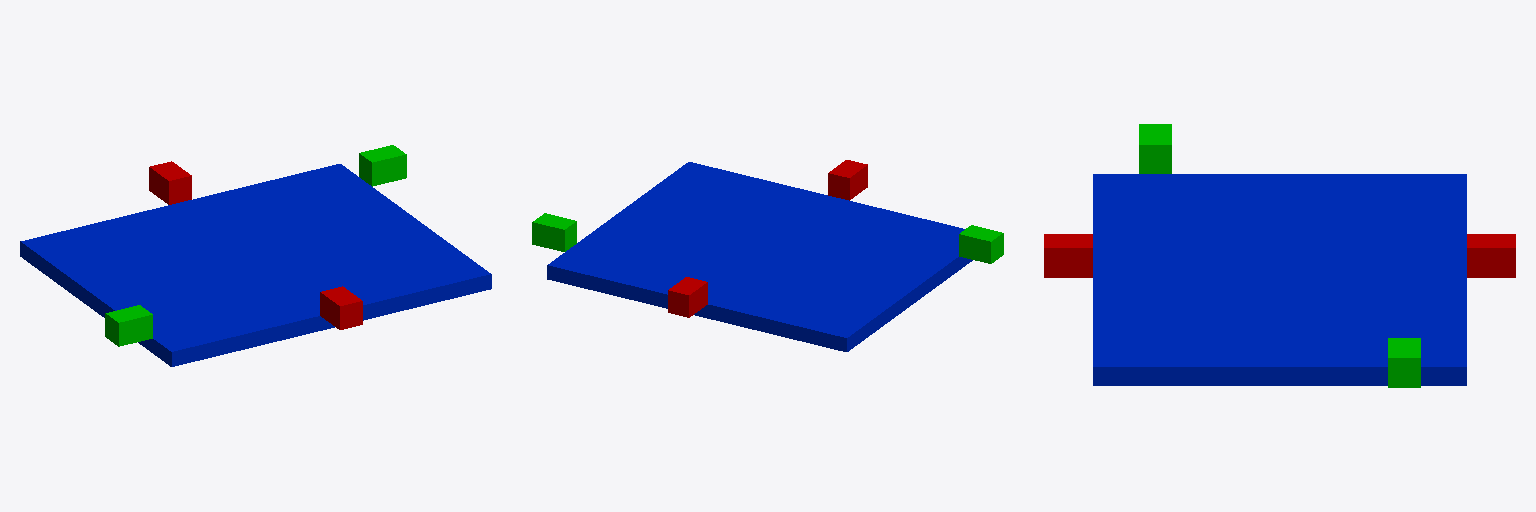
The robot description file, URDF, robot "MARS-2026-robot":
<?xml version="1.0"?>
<robot name="MARS-2026-robot">

  <material name="blue">
    <color rgba="0.0 0.2 0.8 1.0"/>
  </material>
  <material name="black">
    <color rgba="0.1 0.1 0.1 1.0"/>
  </material>
  <material name="red">
    <color rgba="0.8 0.0 0.0 1.0"/>
  </material>
  <material name="green">
    <color rgba="0.0 0.8 0.0 1.0"/>
  </material>

  <link name="base_link">
    <visual>
      <origin xyz="0 0 0" rpy="0 0 0"/>
      <geometry>
        <box size="0.5588 0.4572 0.0254"/> 
      </geometry>
      <material name="blue"/>
    </visual>
    <collision>
      <origin xyz="0 0 0" rpy="0 0 0"/>
      <geometry>
        <box size="0.5588 0.4572 0.0254"/>
      </geometry>
    </collision>
    <inertial>
      <mass value="5.0"/>
      <origin xyz="0 0 0" rpy="0 0 0"/>
      <inertia ixx="0.087" ixy="0.0" ixz="0.0" iyy="0.130" iyz="0.0" izz="0.217"/>
    </inertial>
  </link>

<link name="dummy_root"/>

<joint name="dummy_root_joint" type="fixed">
  <parent link="dummy_root"/>
  <child link="base_link"/>
  <origin xyz="0 0 0" rpy="0 0 0"/>
</joint>
  <!-- <link name="front_left_wheel">
    <visual>
      <origin xyz="0 0 0" rpy="1.5708 0 0"/>
      <geometry>
        <cylinder radius="0.1397" length="0.1016"/>
      </geometry>
      <material name="black"/>
    </visual>
    <collision>
      <origin xyz="0 0 0" rpy="1.5708 0 0"/>
      <geometry>
        <cylinder radius="0.1397" length="0.1016"/>
      </geometry>
    </collision>
  </link>

  <link name="front_right_wheel">
    <visual>
      <origin xyz="0 0 0" rpy="1.5708 0 0"/>
      <geometry>
        <cylinder radius="0.1397" length="0.1016"/>
      </geometry>
      <material name="black"/>
    </visual>
    <collision>
      <origin xyz="0 0 0" rpy="1.5708 0 0"/>
      <geometry>
        <cylinder radius="0.1397" length="0.1016"/>
      </geometry>
    </collision>
  </link>

  <link name="rear_left_wheel">
    <visual>
      <origin xyz="0 0 0" rpy="1.5708 0 0"/>
      <geometry>
        <cylinder radius="0.1397" length="0.1016"/>
      </geometry>
      <material name="white"/>
    </visual>
    <collision>
      <origin xyz="0 0 0" rpy="1.5708 0 0"/>
      <geometry>
        <cylinder radius="0.1397" length="0.1016"/>
      </geometry>
    </collision>
  </link>

  <link name="rear_right_wheel">
    <visual>
      <origin xyz="0 0 0" rpy="1.5708 0 0"/>
      <geometry>
        <cylinder radius="0.1397" length="0.1016"/>
      </geometry>
      <material name="black"/>
    </visual>
    <collision>
      <origin xyz="0 0 0" rpy="1.5708 0 0"/>
      <geometry>
        <cylinder radius="0.1397" length="0.1016"/>
      </geometry>
    </collision>
  </link>

  <joint name="fl_wheel_joint" type="continuous">
    <parent link="base_link"/>
    <child link="front_left_wheel"/>
    <origin xyz="0.2413 0.2794 0.0381" rpy="0 0 0"/>
    <axis xyz="0 1 0"/>
  </joint>

  <joint name="fr_wheel_joint" type="continuous">
    <parent link="base_link"/>
    <child link="front_right_wheel"/>
    <origin xyz="0.2413 -0.2794 0.0381" rpy="0 0 0"/>
    <axis xyz="0 1 0"/>
  </joint>

  <joint name="rl_wheel_joint" type="continuous">
    <parent link="base_link"/>
    <child link="rear_left_wheel"/>
    <origin xyz="-0.2413 0.2794 0.0381" rpy="0 0 0"/>
    <axis xyz="0 1 0"/>
  </joint>

  <joint name="rr_wheel_joint" type="continuous">
    <parent link="base_link"/>
    <child link="rear_right_wheel"/>
    <origin xyz="-0.2413 -0.2794 0.0381" rpy="0 0 0"/>
    <axis xyz="0 1 0"/>
  </joint> -->

  <link name="camera_left">
    <visual>
      <origin xyz="0 0 0" rpy="0 0 0"/>
      <geometry>
        <box size="0.04 0.06 0.04"/>
      </geometry>
      <material name="red"/>
    </visual>
  </link>
  <joint name="camera_left_joint" type="fixed">
    <parent link="base_link"/>
    <child link="camera_left"/>
    <origin xyz="0 0.2586 0.0327" rpy="0 0 0"/>
  </joint>

  <link name="camera_right">
    <visual>
      <origin xyz="0 0 0" rpy="0 0 0"/>
      <geometry>
        <box size="0.04 0.06 0.04"/>
      </geometry>
      <material name="red"/>
    </visual>
  </link>
  <joint name="camera_right_joint" type="fixed">
    <parent link="base_link"/>
    <child link="camera_right"/>
    <origin xyz="0 -0.2586 0.0327" rpy="0 0 0"/>
  </joint>

  <link name="camera_front">
    <visual>
      <origin xyz="0 0 0" rpy="0 0 0"/>
      <geometry>
        <box size="0.06 0.04 0.04"/>
      </geometry>
      <material name="green"/>
    </visual>
  </link>
  <joint name="camera_front_joint" type="fixed">
    <parent link="base_link"/>
    <child link="camera_front"/>
    <origin xyz="0.3094 0.1524 0.0327" rpy="0 0 0"/>
  </joint>

  <link name="camera_rear">
    <visual>
      <origin xyz="0 0 0" rpy="0 0 0"/>
      <geometry>
        <box size="0.06 0.04 0.04"/>
      </geometry>
      <material name="green"/>
    </visual>
  </link>
  <joint name="camera_rear_joint" type="fixed">
    <parent link="base_link"/>
    <child link="camera_rear"/>
    <origin xyz="-0.3094 -0.1524 0.0327" rpy="0 0 0"/>
  </joint>

</robot>

--- What the picture shows (computed from the rendered views, not written in the file) ---
The picture shows the robot from 3 angles, left to right: view 1: azimuth 30°, elevation 25°; view 2: azimuth 150°, elevation 25°; view 3: azimuth 270°, elevation 25°; orthographic projection.
Robot: MARS-2026-robot — 6 links, 5 joints (5 fixed); root link dummy_root; default pose: all joints at 0.
Links seen in each view (by area): view 1: base_link, camera_rear, camera_front, camera_right, camera_left; view 2: base_link, camera_front, camera_rear, camera_left, camera_right; view 3: base_link, camera_left, camera_right, camera_front, camera_rear.
Boxes of the visible links, left/top/right/bottom form: base_link: left=20, top=164, right=491, bottom=366; camera_rear: left=105, top=305, right=152, bottom=346; camera_front: left=359, top=145, right=406, bottom=186; camera_right: left=320, top=286, right=362, bottom=329; camera_left: left=149, top=161, right=191, bottom=204; base_link: left=547, top=162, right=972, bottom=351; camera_front: left=532, top=213, right=576, bottom=251; camera_rear: left=959, top=225, right=1003, bottom=263; camera_left: left=668, top=277, right=707, bottom=317; camera_right: left=828, top=160, right=867, bottom=200; base_link: left=1093, top=174, right=1466, bottom=385; camera_left: left=1467, top=234, right=1515, bottom=277; camera_right: left=1044, top=234, right=1092, bottom=277; camera_front: left=1388, top=338, right=1420, bottom=387; camera_rear: left=1139, top=124, right=1171, bottom=173.
Bounding box of the posed robot: 0.6788 × 0.5772 × 0.0654 m (x, y, z).
Geometry: primitives only (box / cylinder / sphere), no mesh files.
